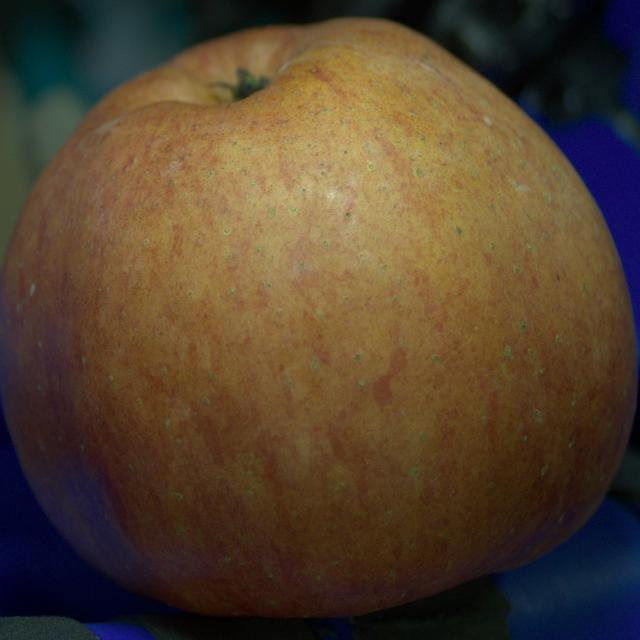apple: (0, 19, 638, 617)
